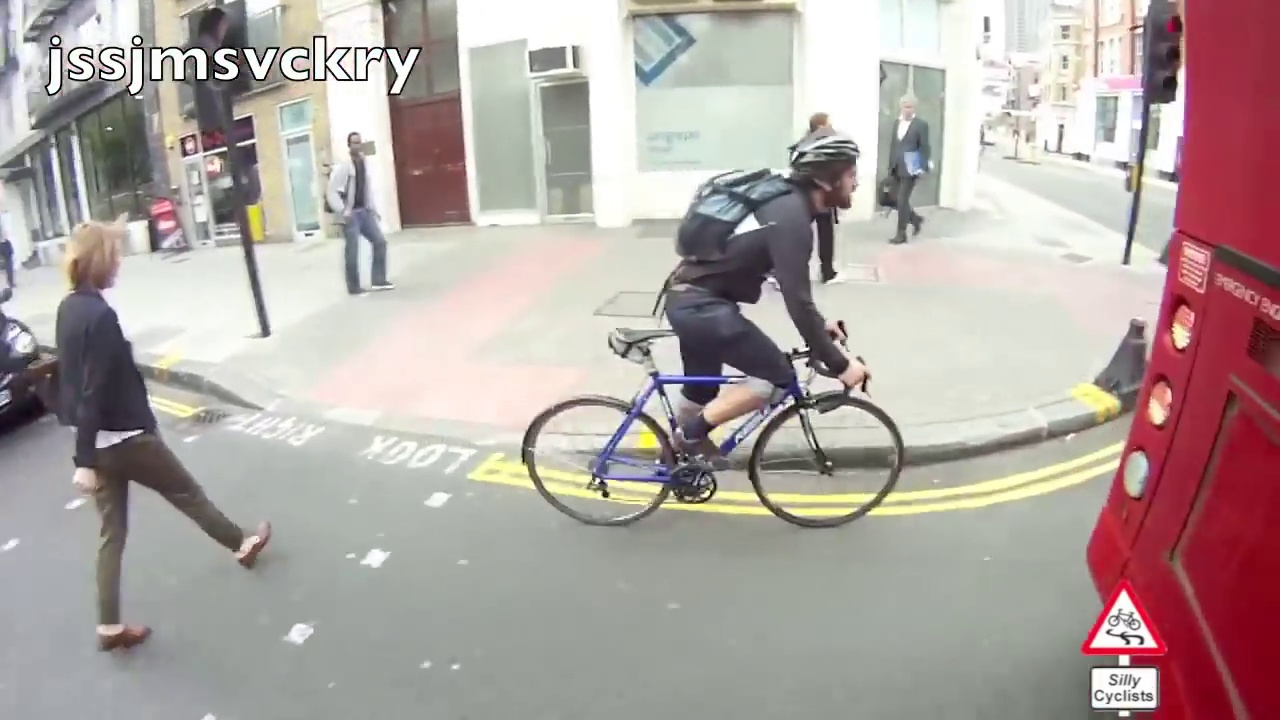cyclist_side: (512, 127, 904, 531)
